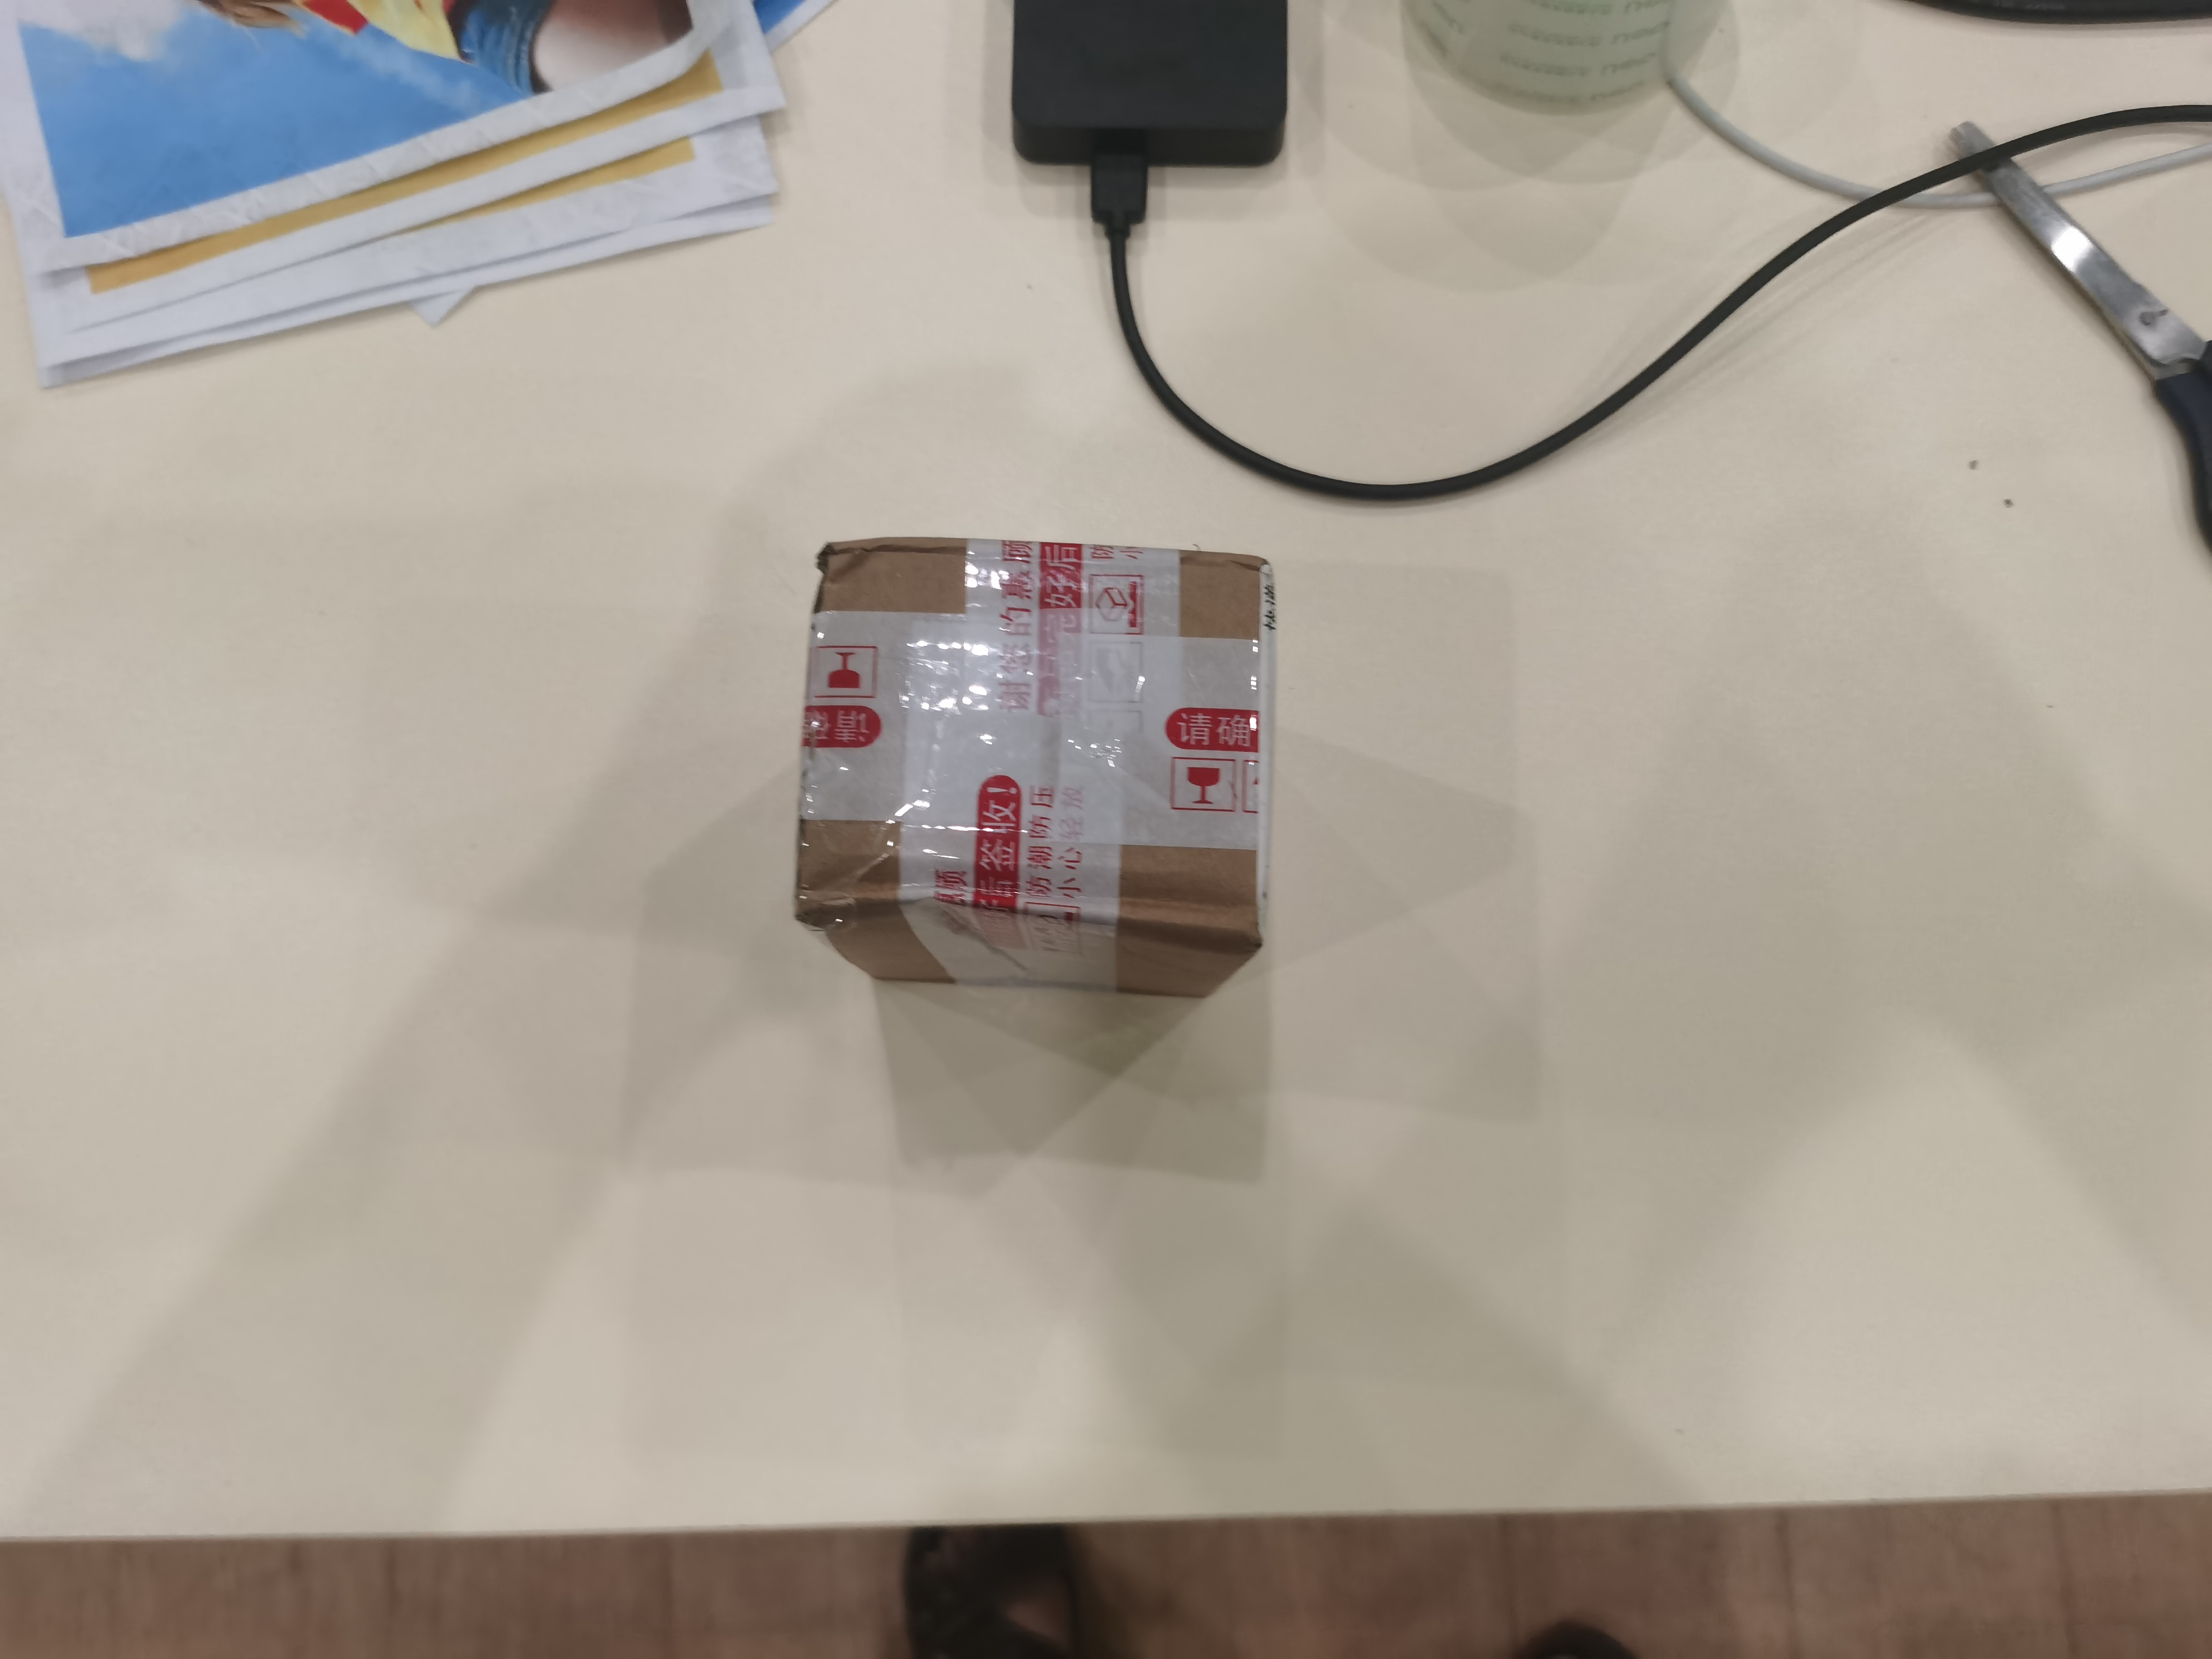box: (779, 528, 1324, 992)
